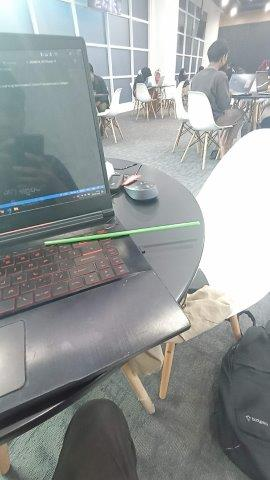sedotan: (45, 221, 199, 245)
